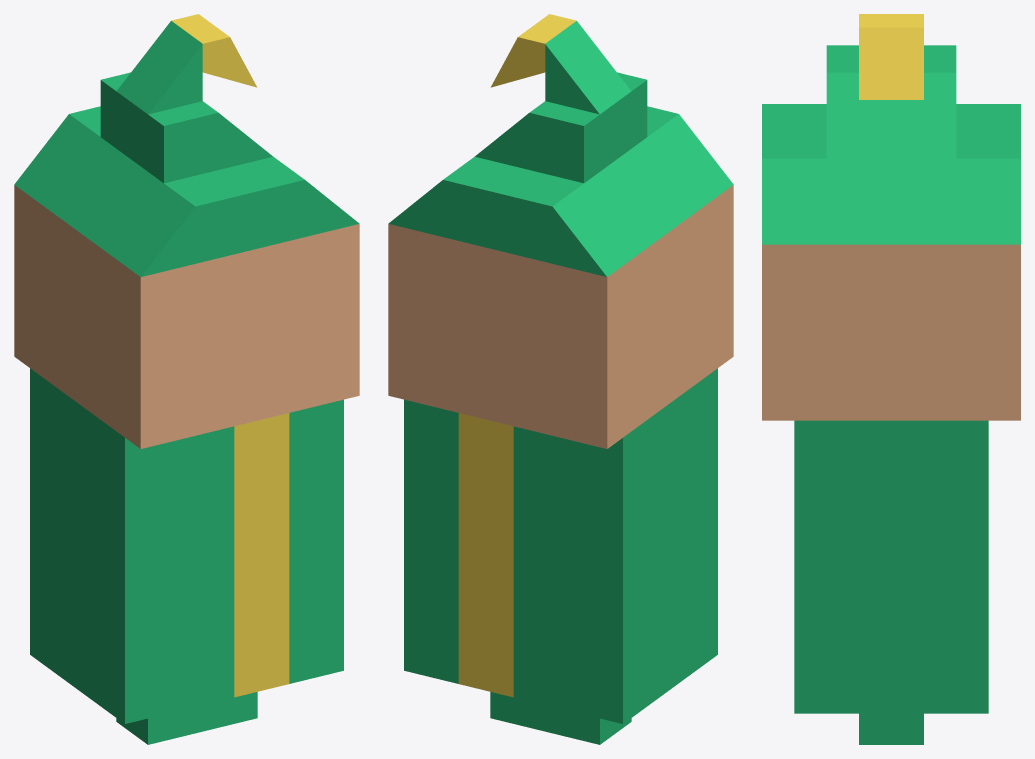
Rendered from ChickenHerderBody.obj.
The picture shows the model from 3 angles, left to right: view 1: azimuth 30°, elevation 25°; view 2: azimuth 150°, elevation 25°; view 3: azimuth 270°, elevation 25°; orthographic projection. The views are drawn at different scales.
Bounding box in the file's own units: 4 × 12 × 4.
Materials: 1 (1 with a texture image).
